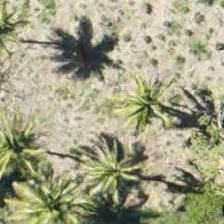coconut_tree: (103, 52, 193, 142), (63, 127, 153, 217), (0, 151, 87, 223), (0, 102, 57, 192)
